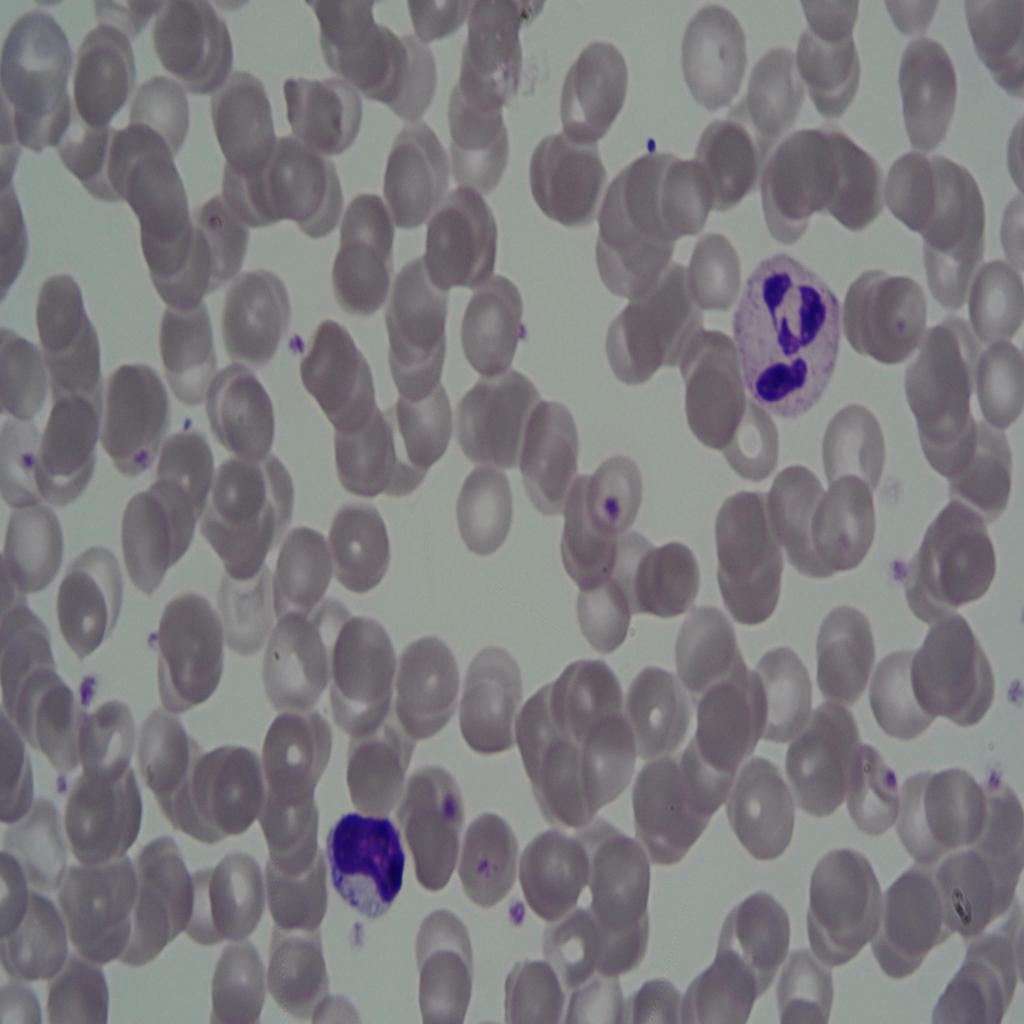Myeoblast: (320, 800, 408, 930)
Neutrofil: (728, 235, 840, 436)
Platelet: (17, 431, 48, 480), (70, 676, 105, 717), (280, 327, 316, 366), (437, 777, 463, 826), (176, 396, 199, 440), (604, 486, 624, 536), (982, 763, 1008, 801), (136, 434, 160, 475), (642, 116, 662, 162), (884, 762, 906, 802), (508, 891, 532, 927), (890, 546, 908, 594), (40, 779, 74, 804), (520, 317, 540, 349)
